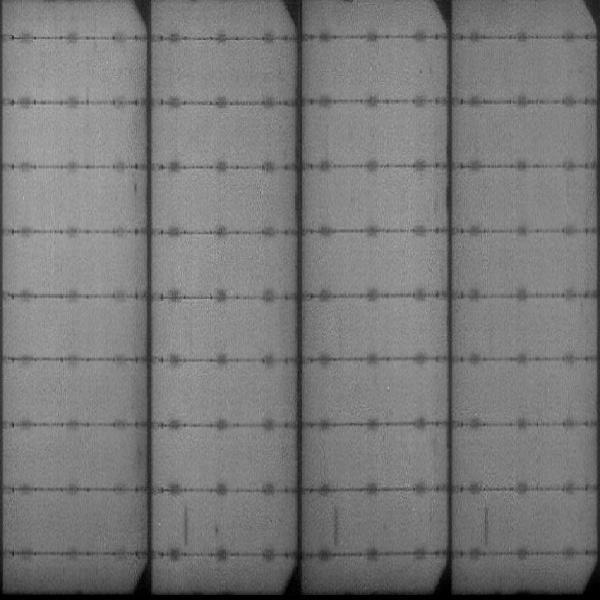scratch: (327, 497, 345, 554), (479, 504, 494, 547), (180, 500, 191, 552)
